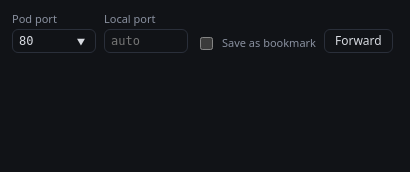
it: PortForward UI and Store (Task R-09) › starts a forward from the drawer form using the first declared port
Expected: the field labelled "Pod port" holds "80", [12,29,96,53]
Click the button "Forward": [358, 41] box [324,29,393,53]
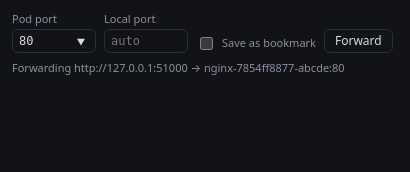
Expected: the message shows "http://127.0.0.1:51000", [12,60,345,75]
